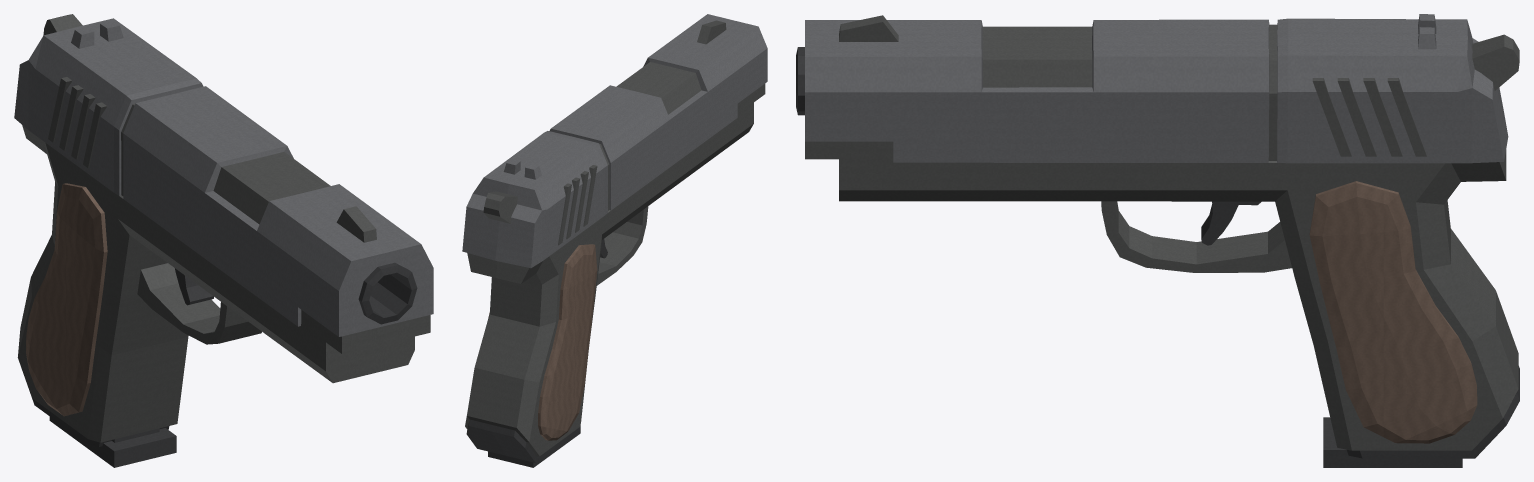
Rendered from pistol.glb.
3 views of the same model, side by side, from view 1: azimuth 30°, elevation 25°; view 2: azimuth 150°, elevation 25°; view 3: azimuth 270°, elevation 25° (orthographic). The views are drawn at different scales.
Parts seen in each view (by area): view 1: part_slide, part_body, part_magazine; view 2: part_slide, part_body, part_magazine; view 3: part_slide, part_body, part_magazine.
Boxes of the visible parts, x1,y1,x2,y2 form: part_slide: (14, 18, 433, 354); part_body: (17, 14, 417, 446); part_magazine: (49, 417, 176, 467); part_slide: (462, 14, 767, 268); part_body: (465, 102, 753, 462); part_magazine: (488, 426, 580, 467); part_slide: (805, 14, 1508, 163); part_body: (796, 34, 1519, 458); part_magazine: (1323, 417, 1462, 467).
Size of the model in its own units: 0.0973 by 0.3617 by 0.5479.
4 materials, 4 textured.
